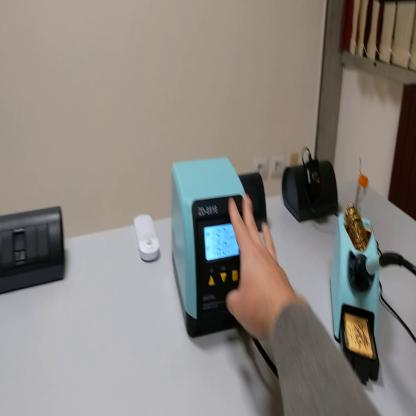hand: (225, 194, 292, 340)
socket: (281, 162, 341, 224), (239, 174, 270, 234)
welder base: (334, 167, 385, 386)
welder probe tip: (360, 245, 397, 288)
welder station: (167, 151, 247, 335)
